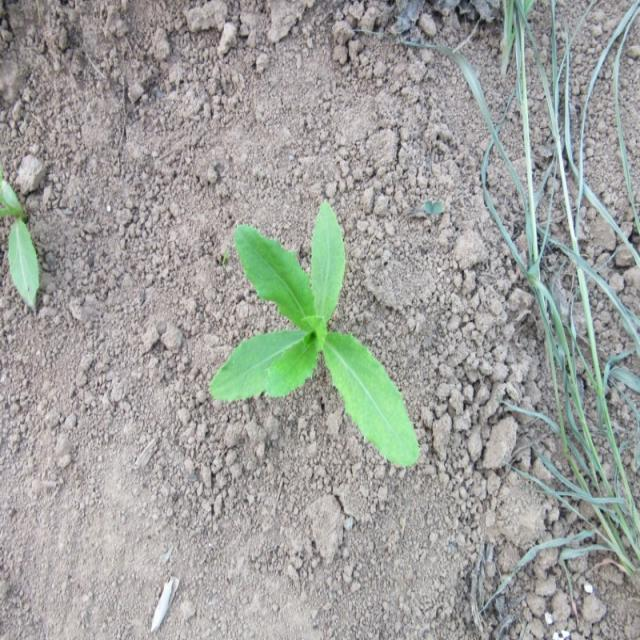cs: (206, 200, 421, 468)
